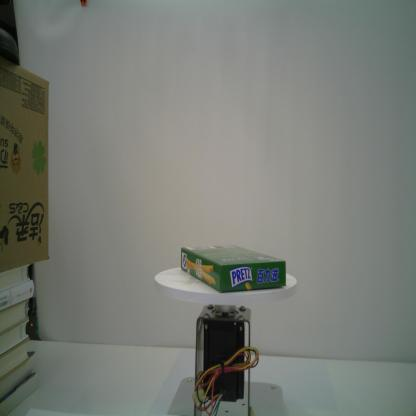Dessert: (180, 244, 286, 294)
